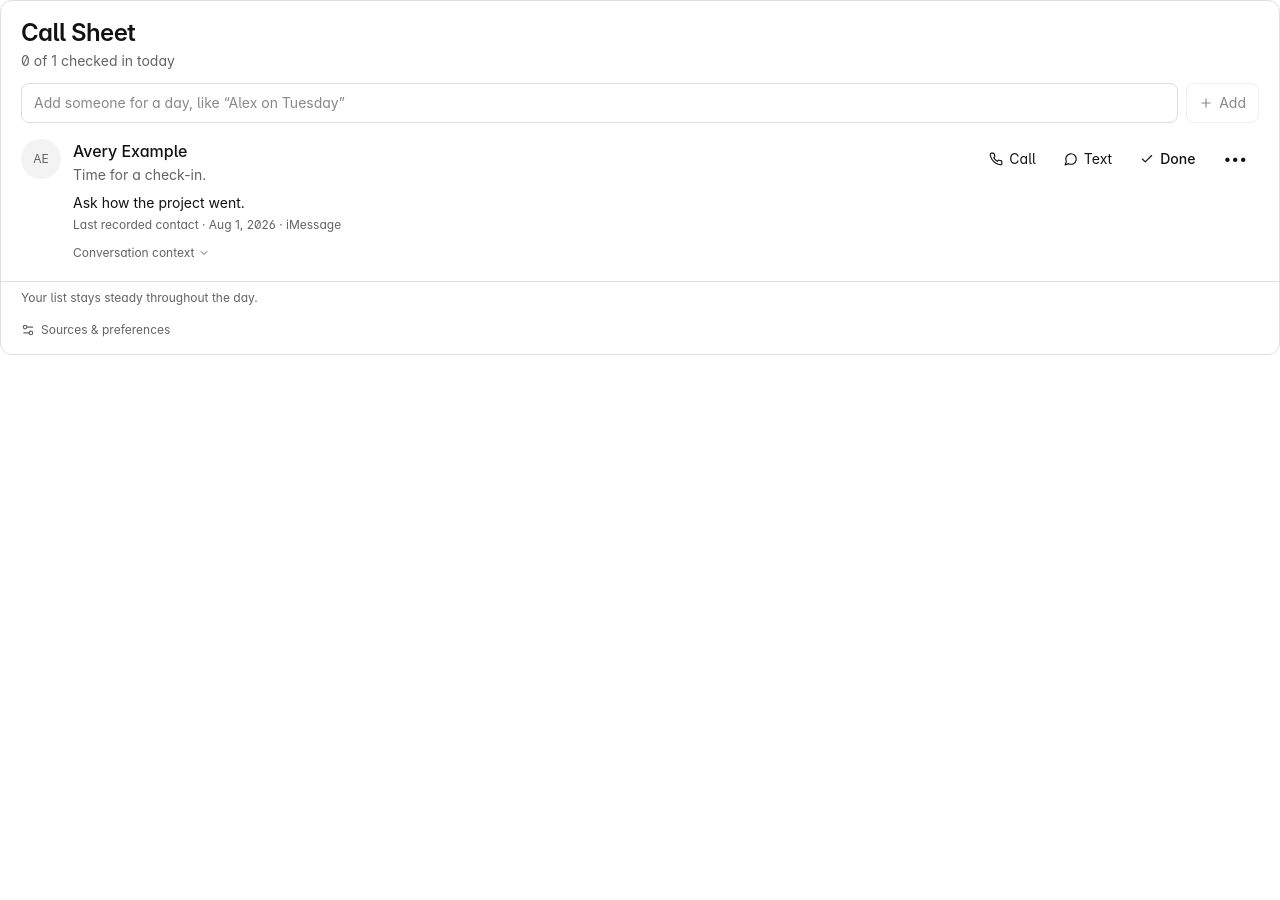
Test: daily call sheet › asks before saving, pauses refresh while choosing, and cancels without a check-in
Click the button "Done". click: (1168, 159)
box: [1128, 139, 1207, 179]
Wait 30000 ms
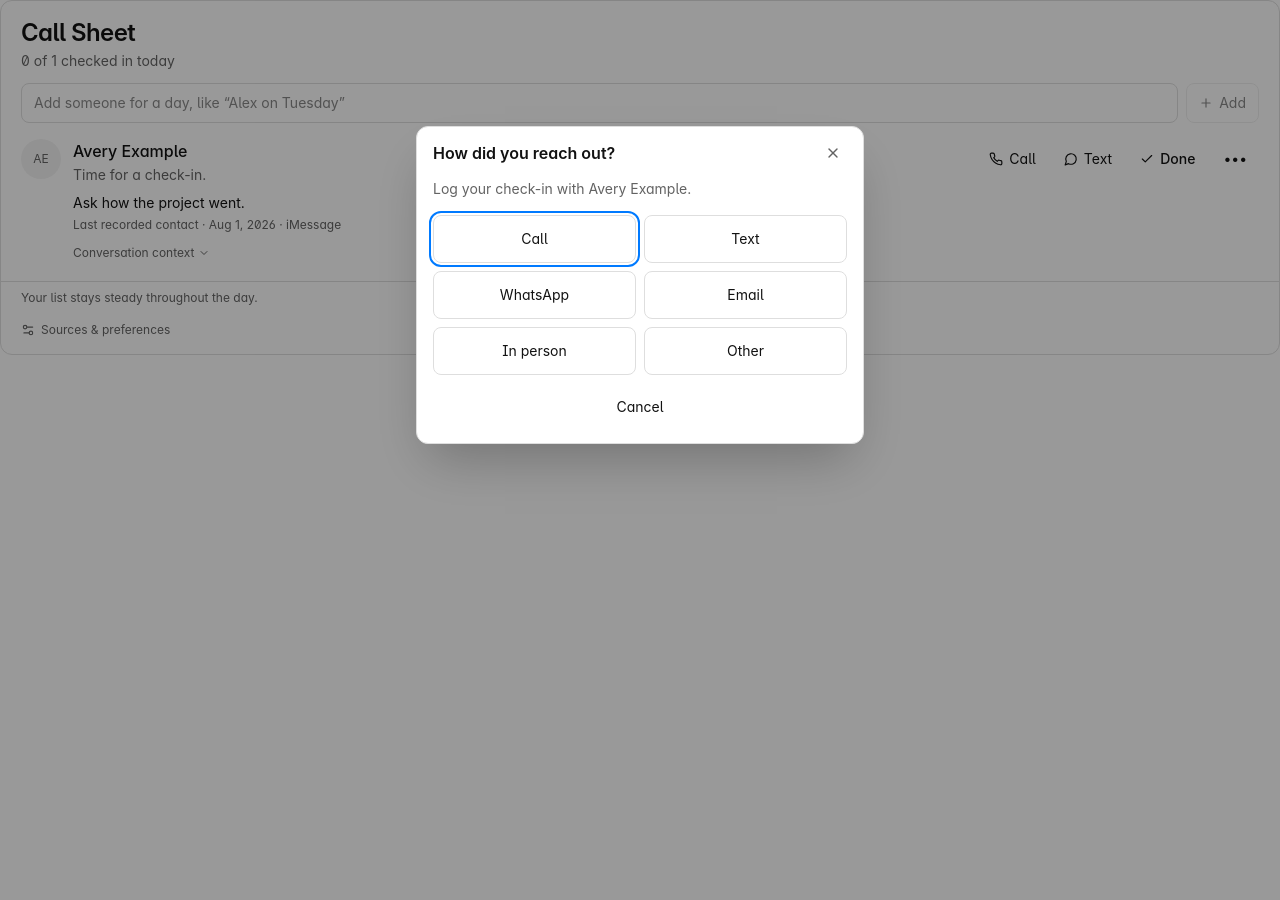
Expected: the dialog shows "How did you reach out?", [433, 143, 615, 163]
Click the button "Cancel". click: (640, 407)
box: [433, 387, 847, 427]
Wait 30000 ms
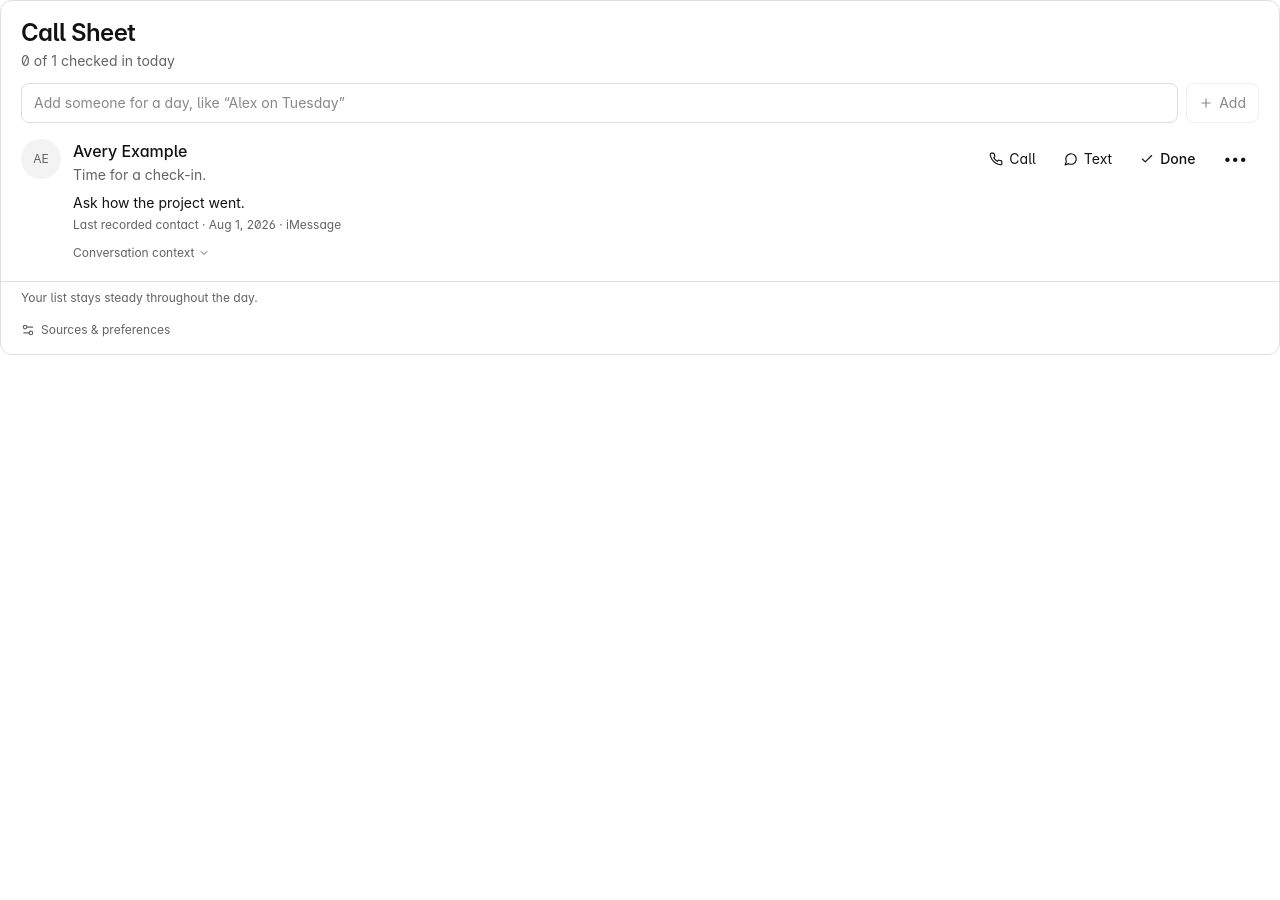
Expected: the text "0 of 1 checked in" is shown, [21, 52, 175, 69]
Expected: the dialog is gone
